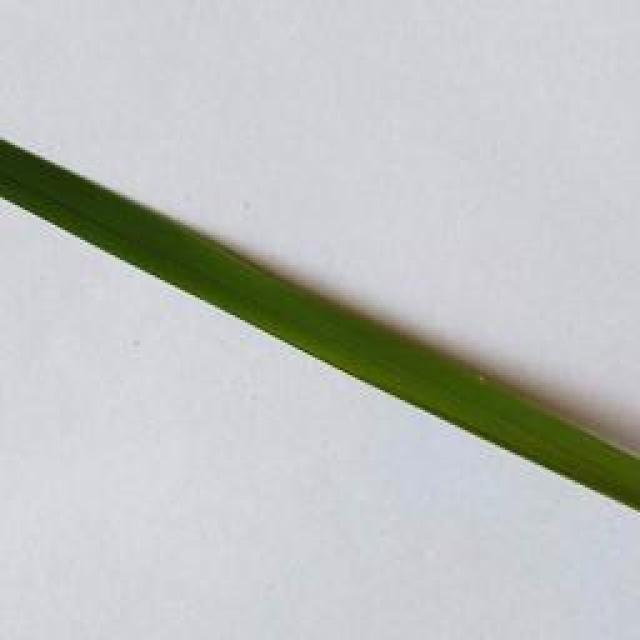Healthy-Plant: (0, 137, 640, 513)
